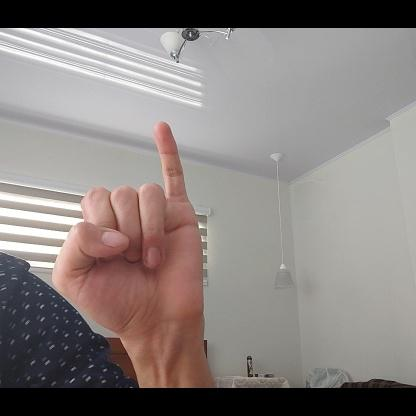I: (49, 119, 209, 325)
